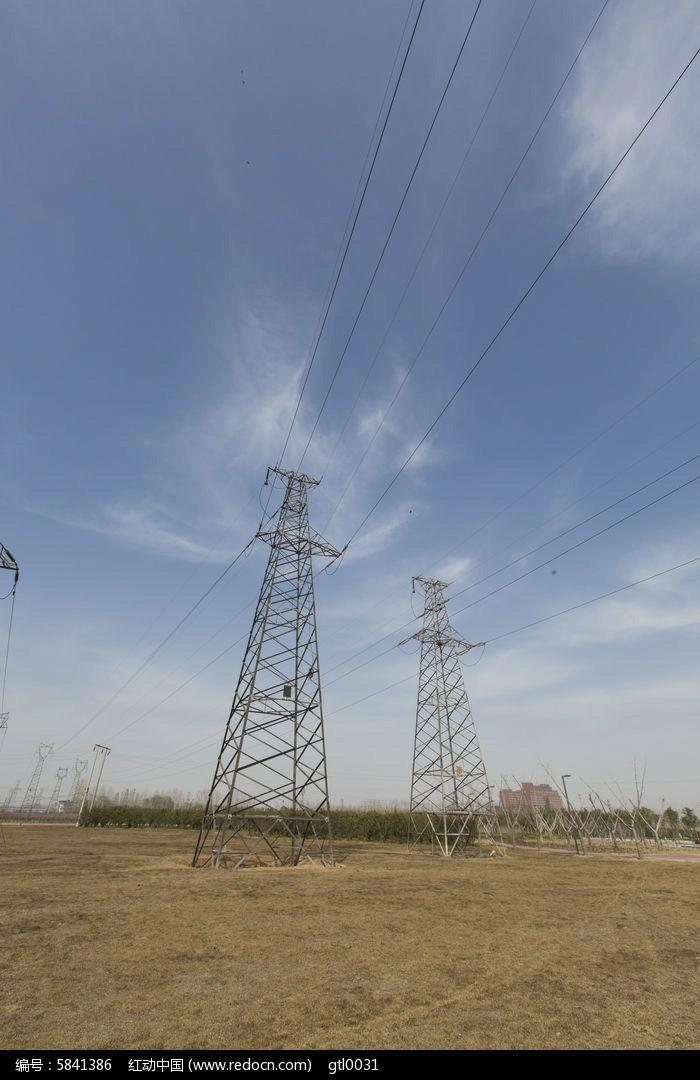power_tower: (196, 444, 344, 873), (393, 563, 520, 859)
